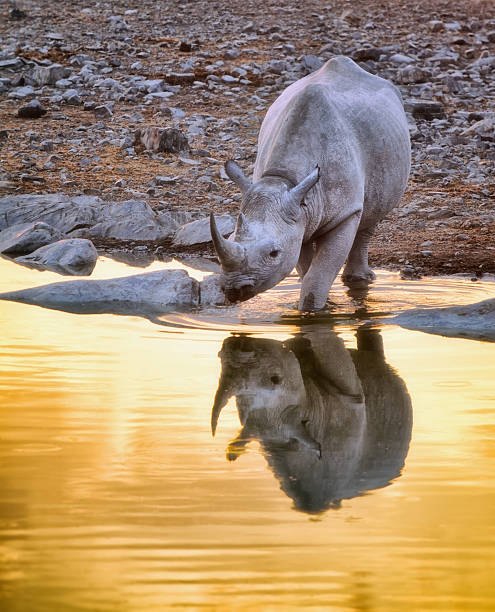rhino: (173, 152, 347, 306)
